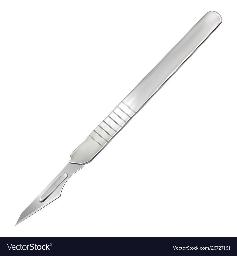scalpel: (15, 12, 222, 226)
